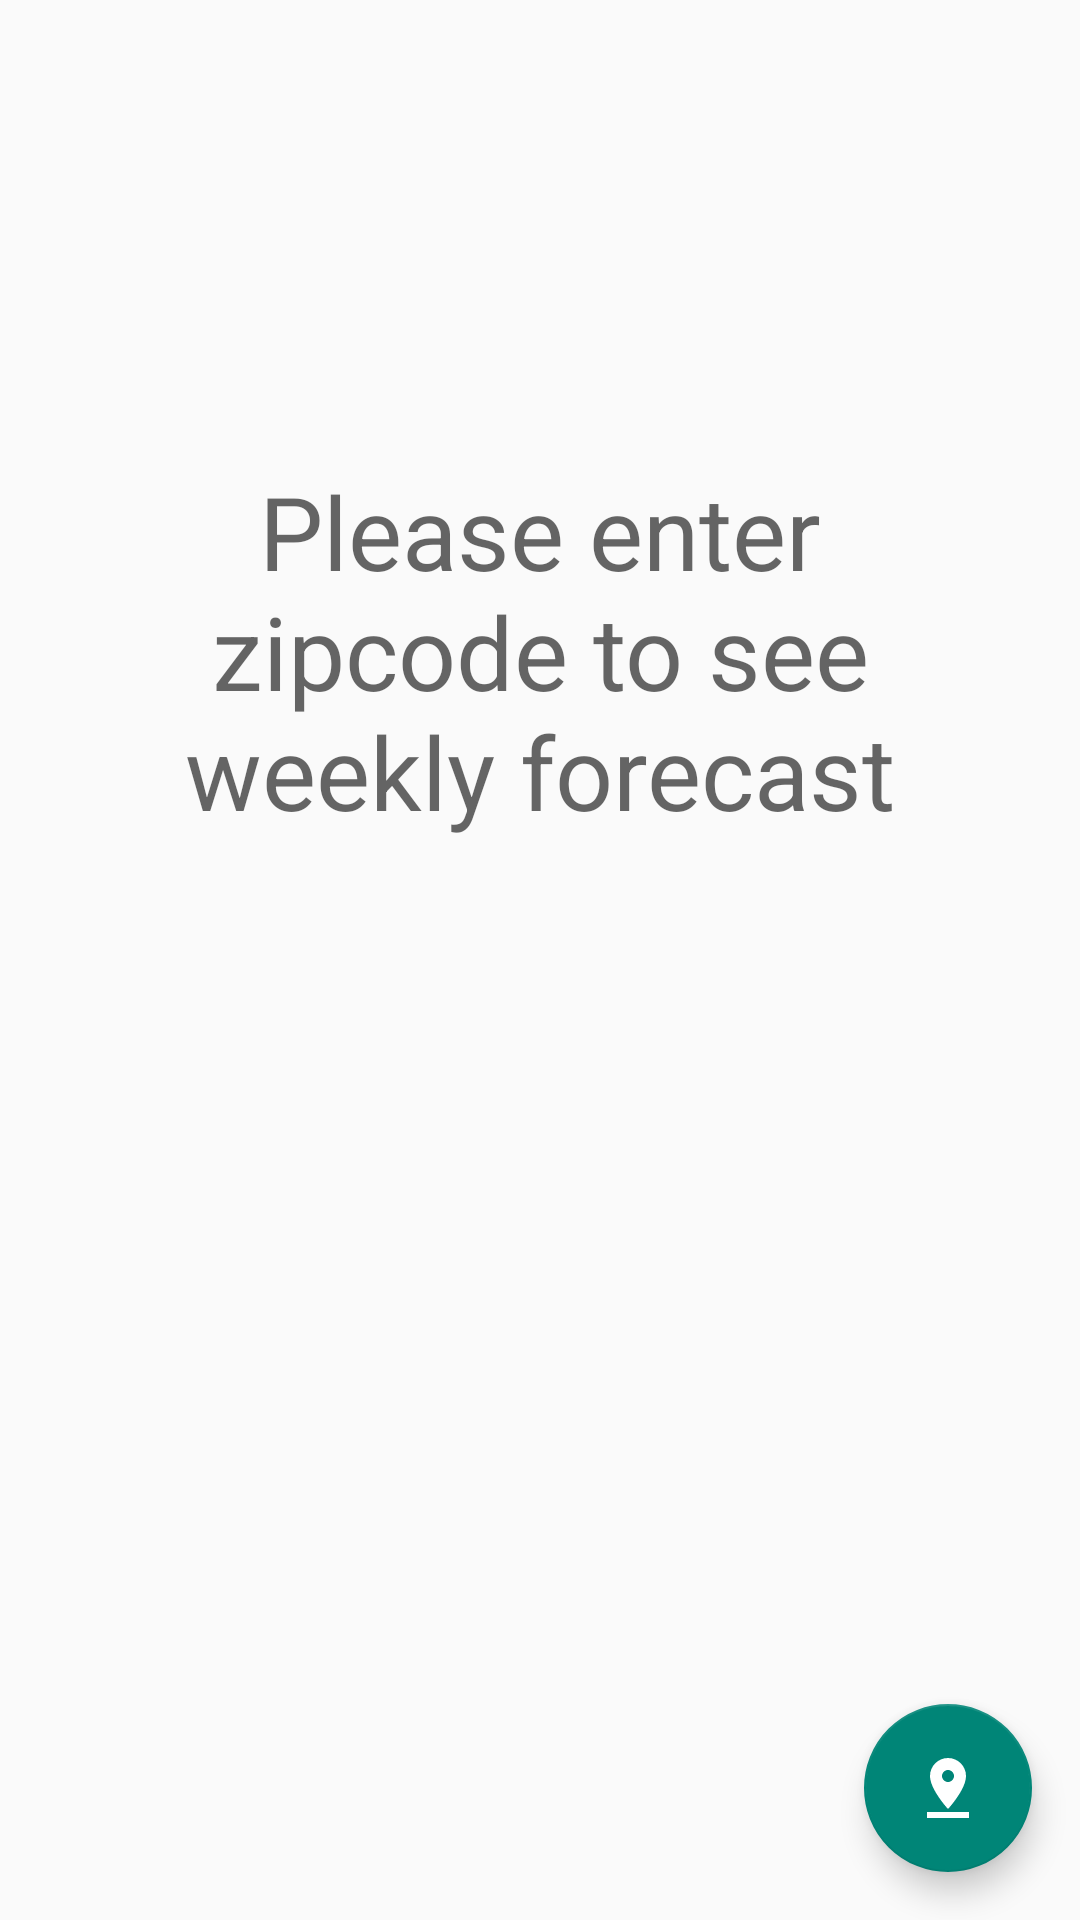

Icons on this 1080*1920 Android screen, each with the point to tap as (x=x, y=y):
pin drop: (x=948, y=1788)
